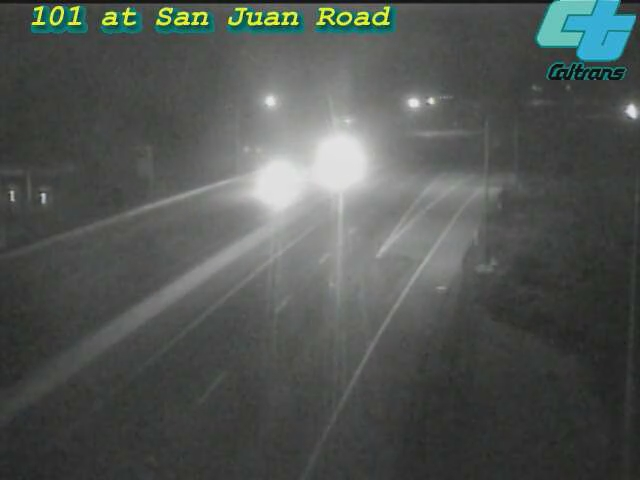vehicle: (238, 139, 318, 219), (296, 123, 376, 203), (607, 89, 640, 139)
